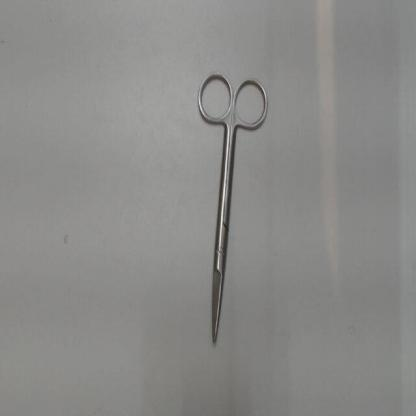Curved Mayo Scissors: (195, 69, 272, 346)
